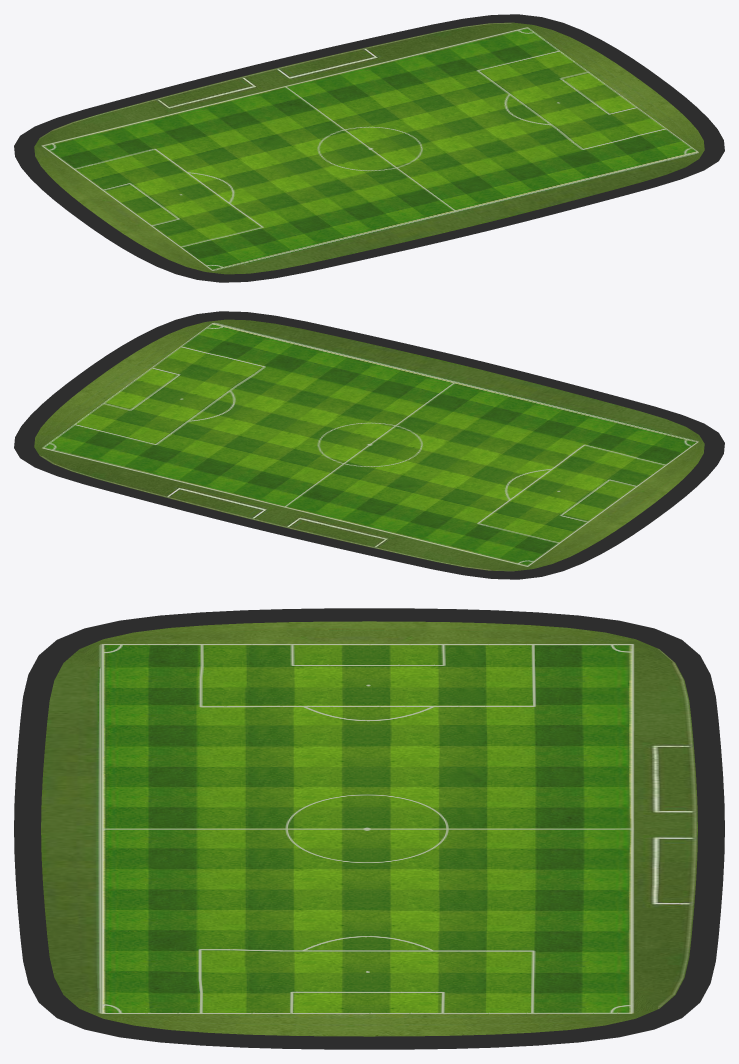
The model's file is eblock_stadion2.fbx.
3 renders of one model, top to bottom at view 1: azimuth 30°, elevation 25°; view 2: azimuth 150°, elevation 25°; view 3: azimuth 270°, elevation 25°, orthographic. The views are drawn at different scales.
Parts seen in each view (by area): view 1: Circle.019; view 2: Circle.019; view 3: Circle.019.
Part boxes in pixels (<box>): Circle.019: <box>14,14,724,282</box>; Circle.019: <box>14,311,724,579</box>; Circle.019: <box>14,608,724,1049</box>.
Bounding box in the file's own units: 1808 × 0.3079 × 1231.
3 materials, 1 textured.
